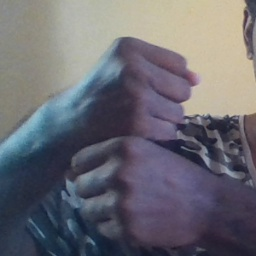G: (58, 33, 200, 244)
